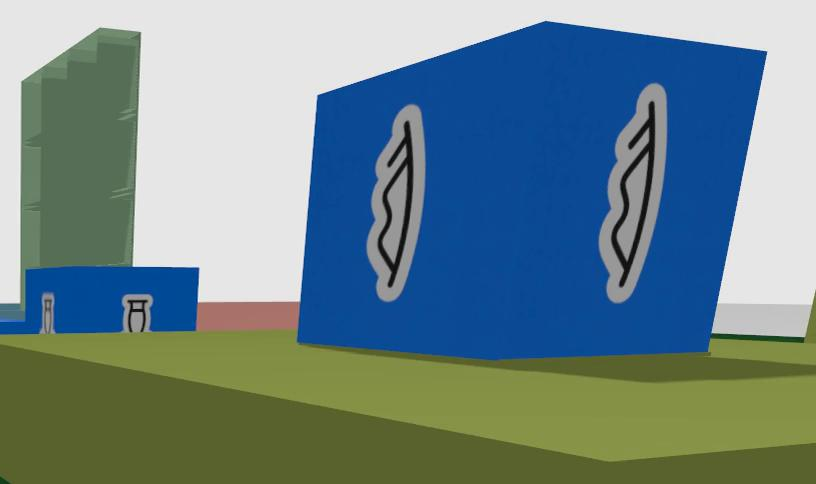KFS_REAL: (297, 22, 765, 359), (598, 84, 666, 302), (20, 266, 197, 333), (368, 105, 422, 301), (123, 294, 152, 330)
